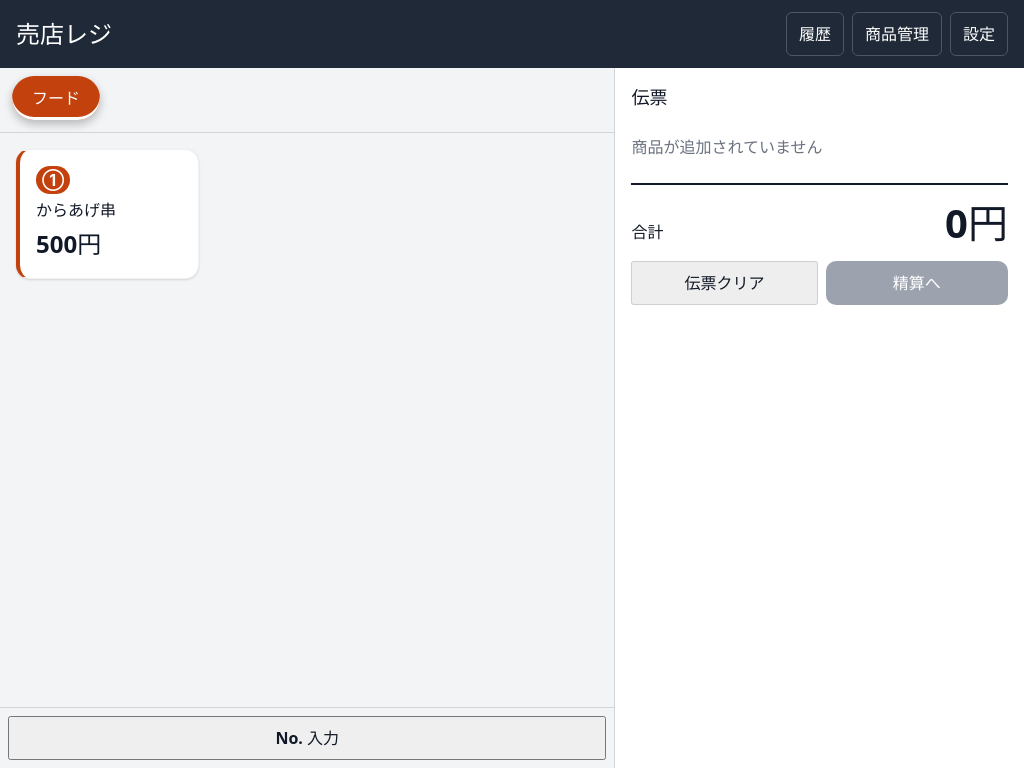
FR-07: 円割引 › 単価を超える割引はエラーを表示し、反映されない
The image size is (1024, 768).
Click the button with aria-label "からあげ串を追加". click: (108, 214)
box: left=16, top=149, right=200, bottom=279
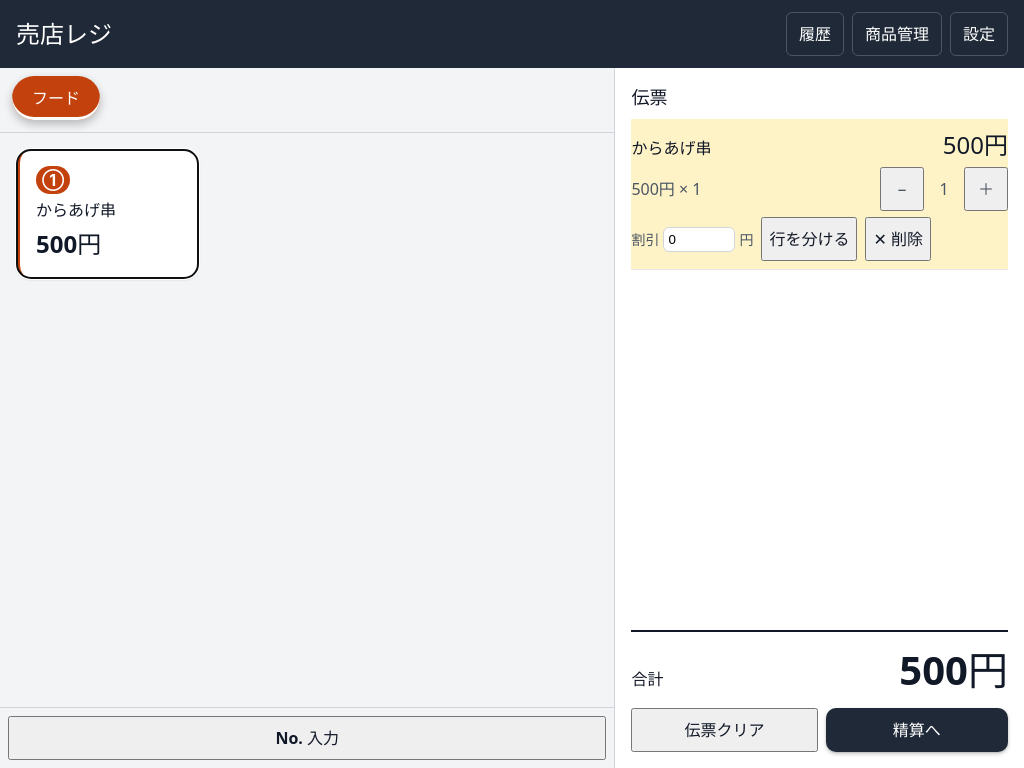
Replace the text in the number field named "からあげ串の割引額" with "600". click: (699, 239)
box: left=663, top=226, right=735, bottom=252
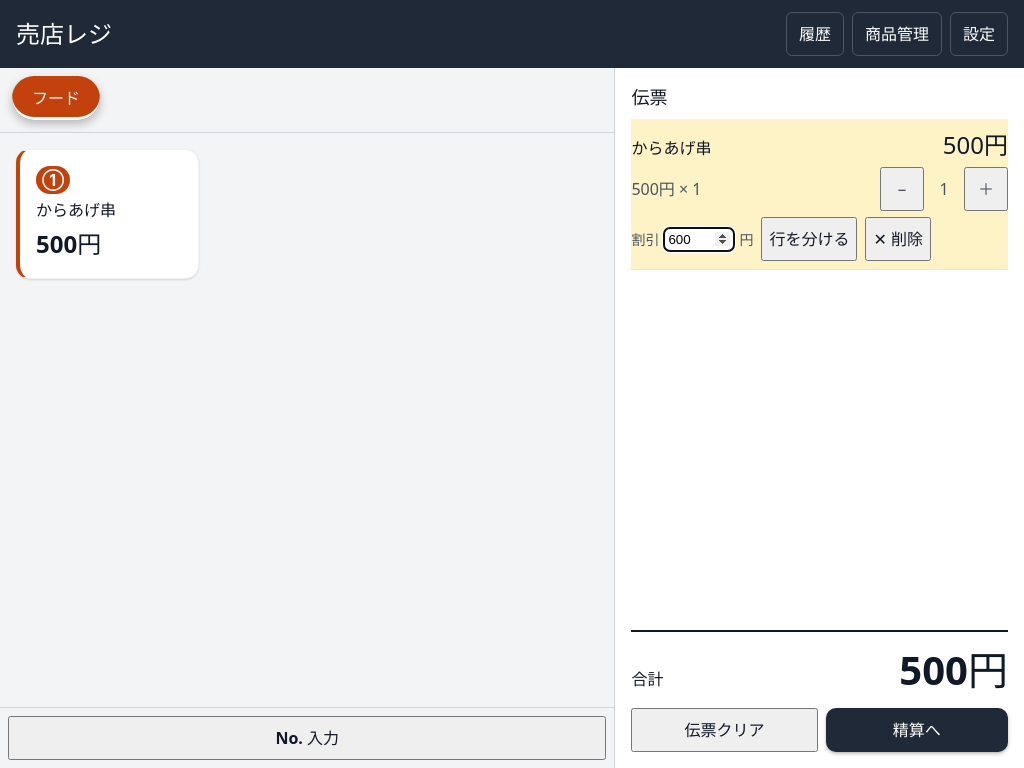
Press Tab
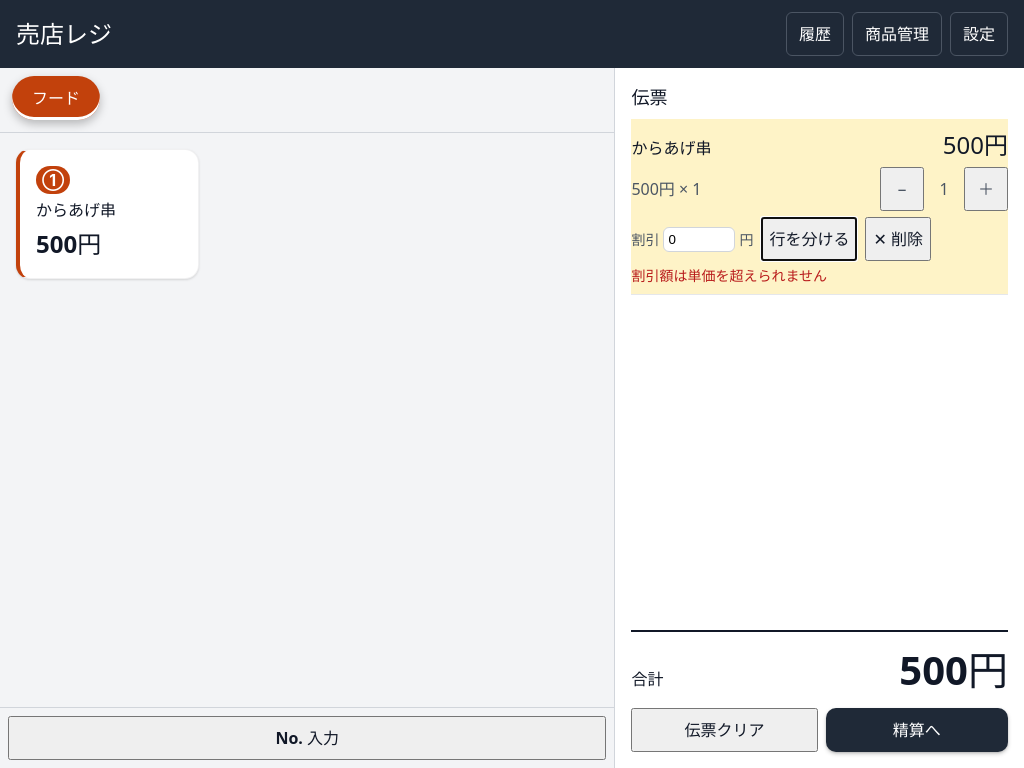
Expected: the text "割引額は単価を超えられません" is shown, left=631, top=266, right=827, bottom=285
